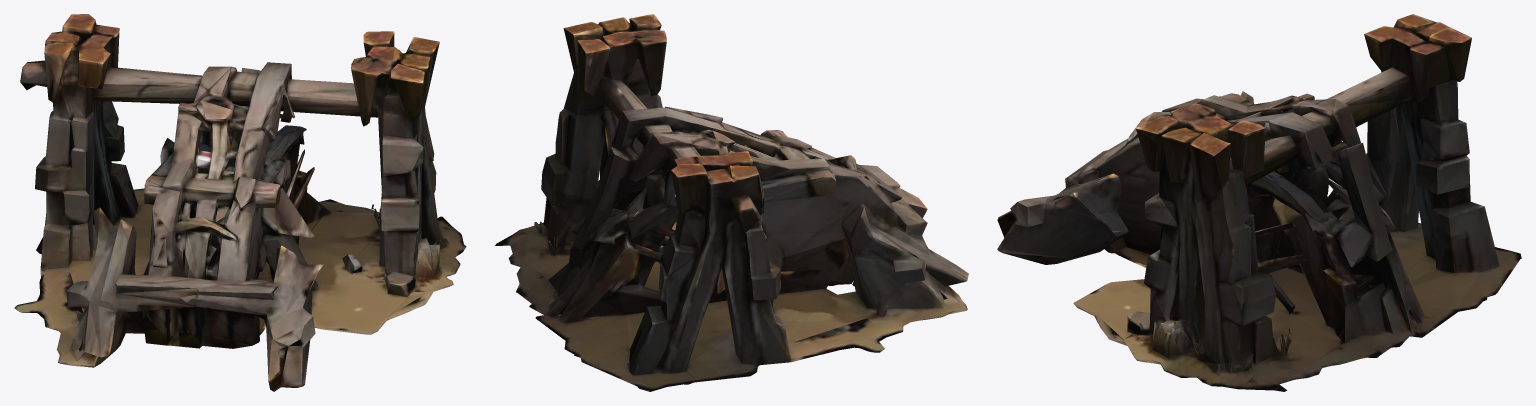
File: field_sandbag_wall_01.glb
3 views of the same model, side by side, from view 1: azimuth 30°, elevation 25°; view 2: azimuth 150°, elevation 25°; view 3: azimuth 270°, elevation 25° (orthographic). The views are drawn at different scales.
Parts seen in each view (by area): view 1: geometry_0; view 2: geometry_0; view 3: geometry_0.
Part boxes in pixels (x1,y1,x2,y2): geometry_0: (14,14,466,391); geometry_0: (495,14,968,391); geometry_0: (997,14,1521,391).
Size of the model in its own units: 0.9907 by 0.474 by 0.9959.
Materials: 1 (1 with a texture image).
